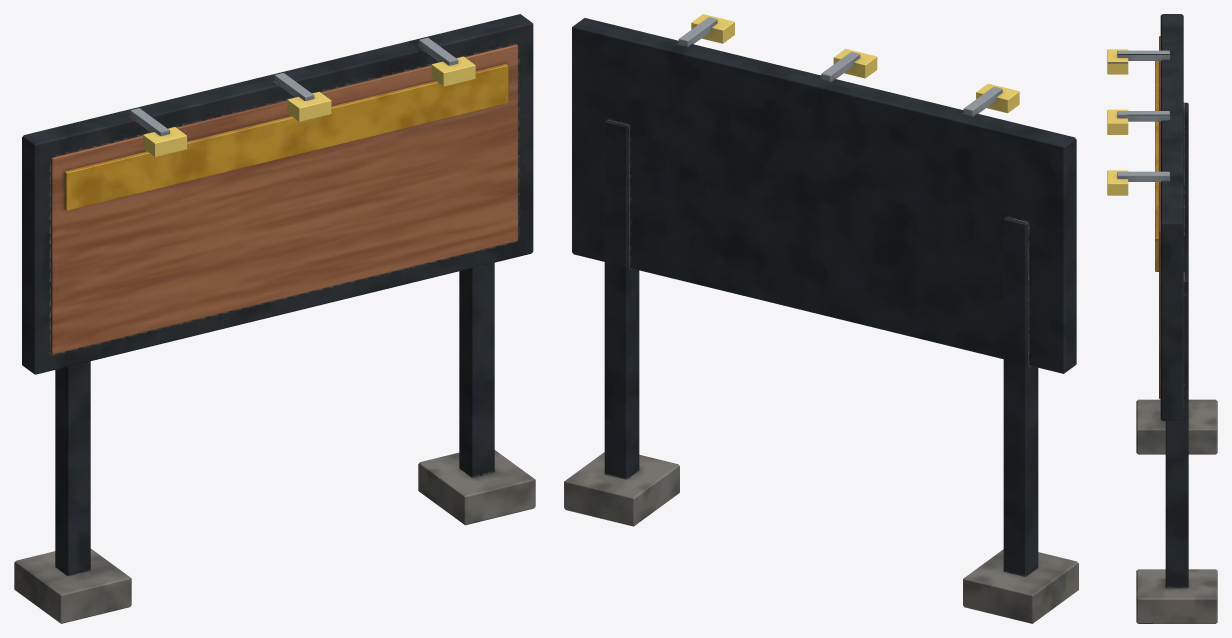
Rendered from billboard_workshop.glb.
3 views of the same model, side by side, from view 1: azimuth 30°, elevation 25°; view 2: azimuth 150°, elevation 25°; view 3: azimuth 270°, elevation 25° (orthographic). The views are drawn at different scales.
Parts seen in each view (by area): view 1: BillboardWorkshop; view 2: BillboardWorkshop; view 3: BillboardWorkshop.
Boxes of the visible parts, x1,y1,x2,y2 form: BillboardWorkshop: [14, 14, 535, 623]; BillboardWorkshop: [564, 14, 1078, 623]; BillboardWorkshop: [1107, 14, 1217, 623].
Bounding box in the file's own units: 5.2 × 4.76 × 1.15.
1 material, 1 textured.
